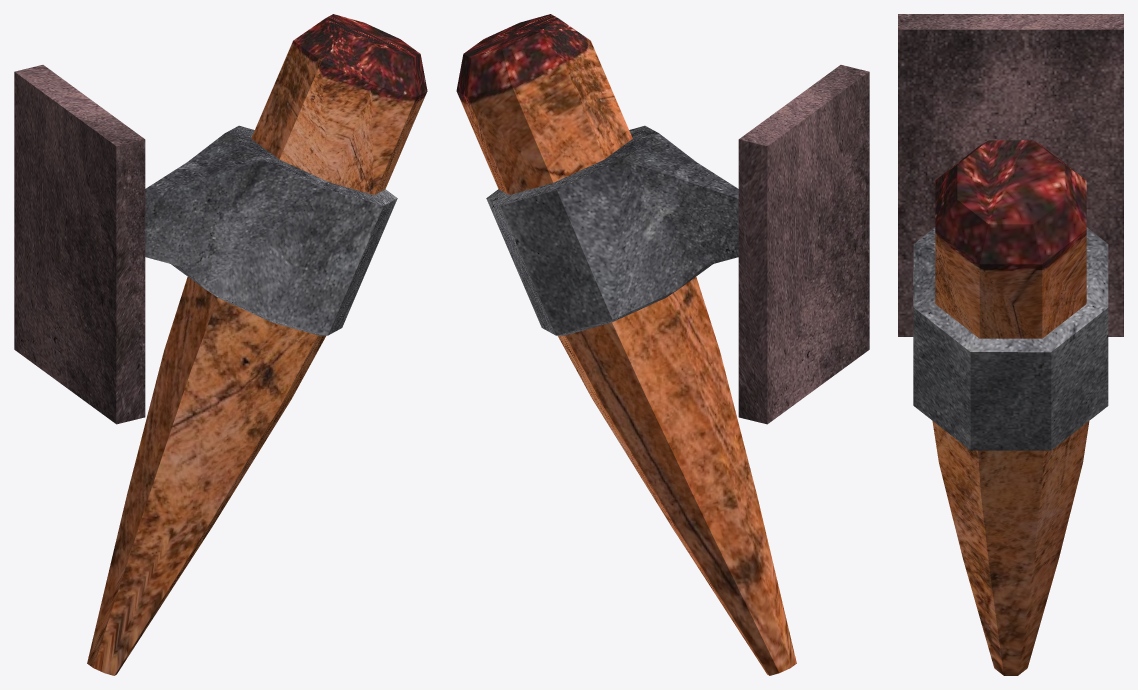
File: torch_wall.fbx
The picture shows the model from 3 angles, left to right: view 1: azimuth 30°, elevation 25°; view 2: azimuth 150°, elevation 25°; view 3: azimuth 270°, elevation 25°; orthographic projection. The views are drawn at different scales.
Visible parts, largest first — view 1: torch_wall; view 2: torch_wall; view 3: torch_wall.
Part boxes in pixels (x1,y1,x2,y2): torch_wall: (14, 14, 427, 675); torch_wall: (456, 14, 869, 675); torch_wall: (898, 14, 1123, 675).
Bounding box in the file's own units: 24.03 × 39.11 × 12.21.
Materials: 1 (1 with a texture image).
